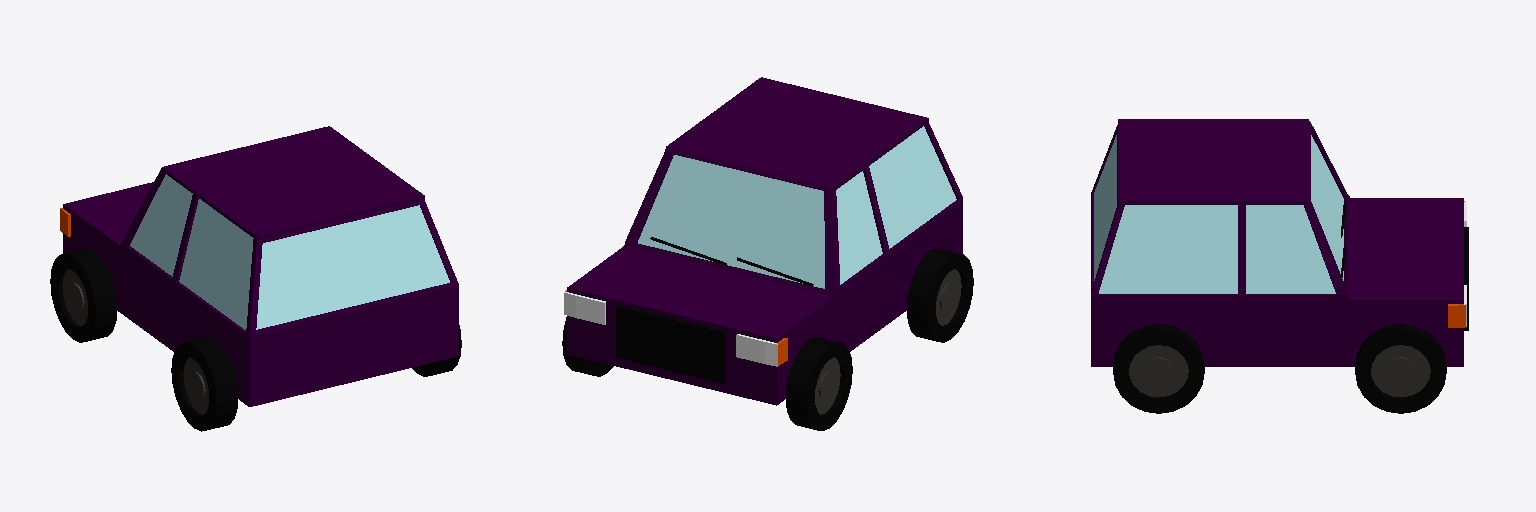
File: Jeep_Purple.obj
3 renders of one model, left to right at view 1: azimuth 30°, elevation 25°; view 2: azimuth 150°, elevation 25°; view 3: azimuth 270°, elevation 25°, orthographic.
Visible parts, largest first — view 1: Jeep_Purple; view 2: Jeep_Purple; view 3: Jeep_Purple.
Boxes of the visible parts, box(x1,y1,x2,y2) form: Jeep_Purple: box(50, 126, 461, 431); Jeep_Purple: box(562, 77, 973, 430); Jeep_Purple: box(1091, 119, 1468, 413).
Bounding box in the file's own units: 172 × 132 × 230.